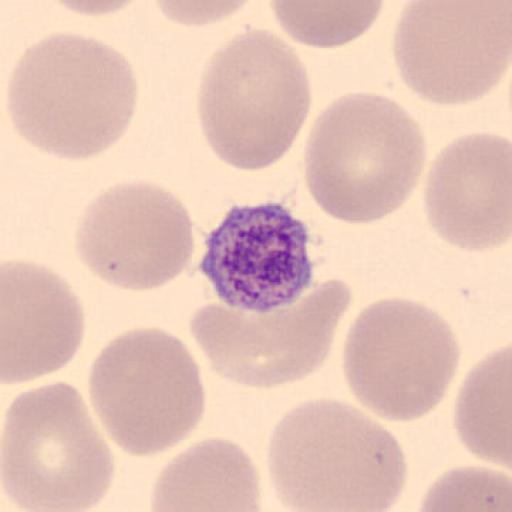Platelet: (196, 197, 319, 315)
RBC: (6, 30, 138, 163), (302, 90, 429, 226), (191, 281, 349, 390), (196, 28, 312, 172), (266, 396, 408, 512), (86, 325, 207, 461), (342, 295, 462, 423), (0, 379, 115, 512), (72, 179, 195, 294), (392, 0, 512, 107), (422, 130, 512, 254), (2, 257, 88, 386), (148, 436, 262, 512), (452, 344, 512, 466), (267, 0, 385, 49), (415, 464, 512, 512), (150, 0, 257, 28), (46, 0, 144, 18)
